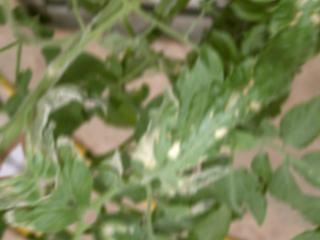Tomato leaf bacterial spot: (112, 16, 303, 225)
